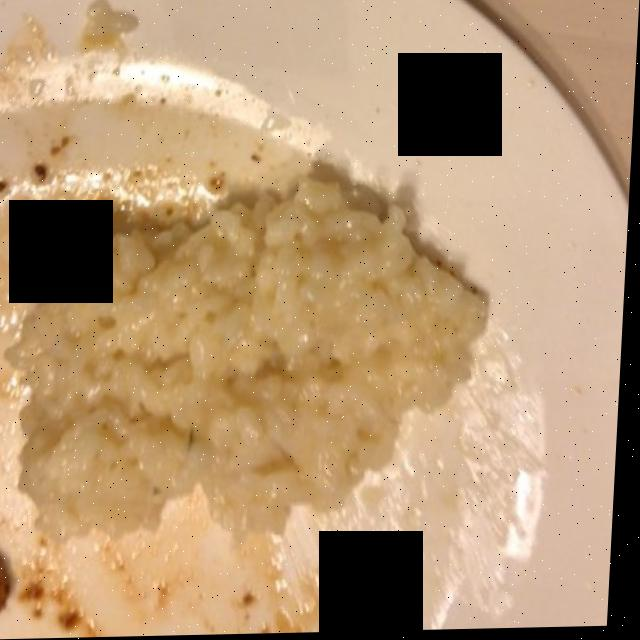risotto-without-cheese-cooked: (33, 192, 508, 556)
